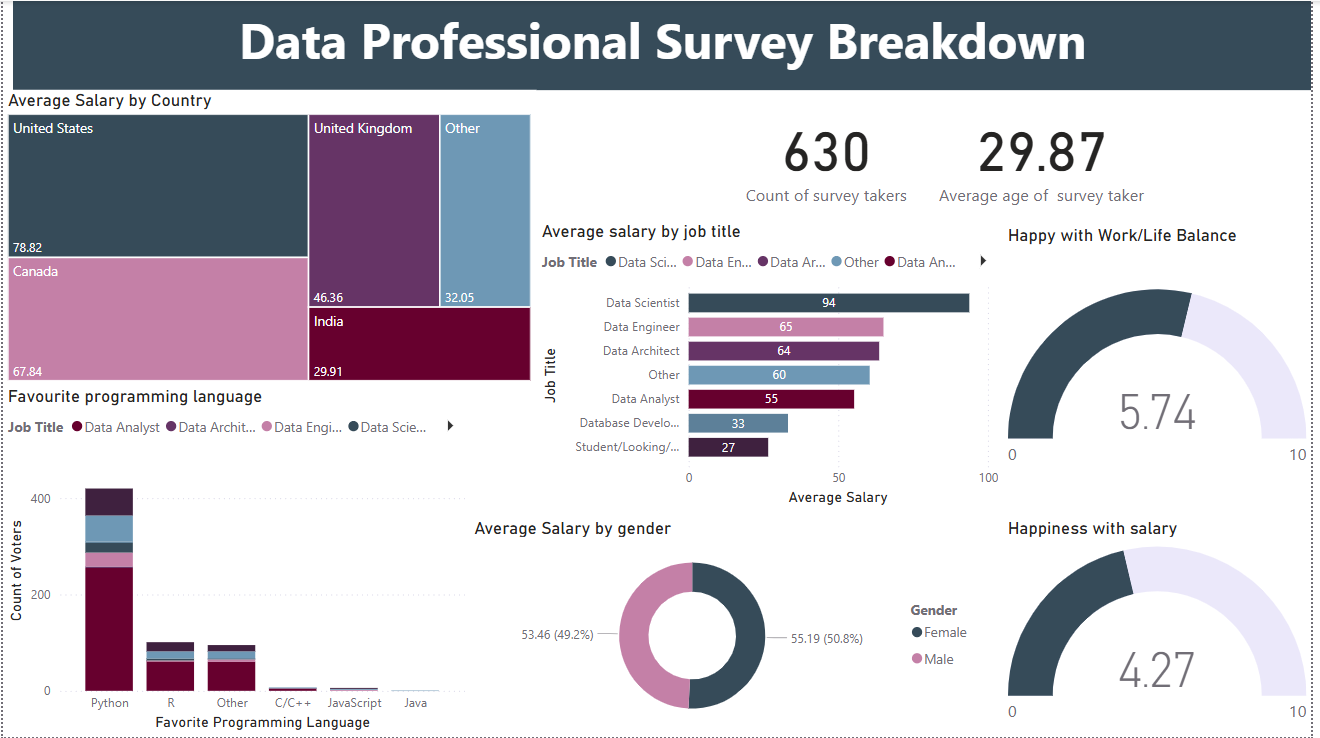

Layout of this report page (visuals, bound fields, positions):
{"tool":"powerbi","page":{"name":"Page 1","canvas":[1280,720],"ordinal":0},"visuals":[{"type":"textbox","box":[9.2,0,1271.1,87.4],"z":0},{"type":"card","fields":{"Values":["Count(Data Professional Survey.Unique ID)"]},"box":[708.6,88.1,195.1,126],"z":1000},{"type":"card","fields":{"Values":["Avg(Data Professional Survey.Q10 - Current Age)"]},"box":[903.6,88.1,224.9,126],"z":2000},{"type":"barChart","title":"Average salary by job title","fields":{"Category":["Data Professional Survey.Q1 - Which Title Best Fits your Current Role?.1"],"Y":["Avg(Data Professional Survey.Average Salery)"],"Series":["Data Professional Survey.Q1 - Which Title Best Fits your Current Role?.1"]},"box":[521.6,215.4,456.6,283.2],"z":3000},{"type":"barChart","title":"Favourite programming language","fields":{"Category":["Data Professional Survey.Q5 - Favorite Programming Language.1"],"Y":["CountNonNull(Data Professional Survey.Unique ID)"],"Series":["Data Professional Survey.Q1 - Which Title Best Fits your Current Role?.1"]},"box":[0,377.2,456.9,341.9],"z":4000},{"type":"treemap","title":"Average Salary by Country","fields":{"Group":["Data Professional Survey.Q11 - Which Country do you live in?.1"],"Values":["Avg(Data Professional Survey.Average Salery)"]},"box":[0,87.4,521.3,289.8],"z":5000},{"type":"gauge","title":"Happy with Work/Life Balance","fields":{"Y":["Avg(Data Professional Survey.Q6 - How Happy are you in your Current Position with the following? (Work/Life Balance))"],"MaxValue":["Max(Data Professional Survey.Q6 - How Happy are you in your Current Position with the following? (Work/Life Balance))1"],"MinValue":["Min(Data Professional Survey.Q6 - How Happy are you in your Current Position with the following? (Work/Life Balance))"]},"box":[978.2,219.3,302.1,285.2],"z":6000},{"type":"gauge","title":"Happiness with salary","fields":{"Y":["Avg(Data Professional Survey.Q6 - How Happy are you in your Current Position with the following? (Salary))"],"MinValue":["Min(Data Professional Survey.Q6 - How Happy are you in your Current Position with the following? (Salary))"],"MaxValue":["Max(Data Professional Survey.Q6 - How Happy are you in your Current Position with the following? (Salary))"]},"box":[978.2,504.5,302.1,216.2],"z":7000},{"type":"donutChart","title":"Average Salary by gender","fields":{"Category":["Data Professional Survey.Q9 - Male/Female?"],"Y":["Avg(Data Professional Survey.Average Salery)"]},"box":[456.6,505.3,502.6,212.7],"z":8000}]}

Visuals, with their boxes in screenshot pixels (x1, y1, x2, y2), scaled from the page's 1280x720 canvas onto the 1320x738 screenshot:
textbox: detection(9, 0, 1319, 90)
card - Count(Data Professional Survey.Unique ID): detection(731, 90, 932, 219)
card - Avg(Data Professional Survey.Q10 - Current Age): detection(932, 90, 1164, 219)
"Average salary by job title" barChart: detection(538, 221, 1009, 511)
"Favourite programming language" barChart: detection(0, 387, 471, 737)
"Average Salary by Country" treemap: detection(0, 90, 538, 387)
"Happy with Work/Life Balance" gauge: detection(1009, 225, 1319, 517)
"Happiness with salary" gauge: detection(1009, 517, 1319, 737)
"Average Salary by gender" donutChart: detection(471, 518, 989, 736)
